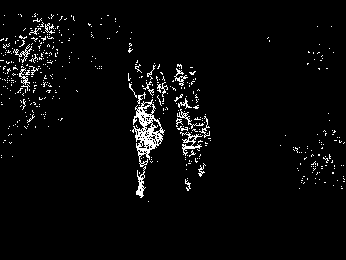person: (176, 95, 210, 194), (133, 102, 165, 200), (145, 59, 170, 115), (124, 57, 147, 107), (170, 62, 187, 114), (185, 66, 202, 111)
